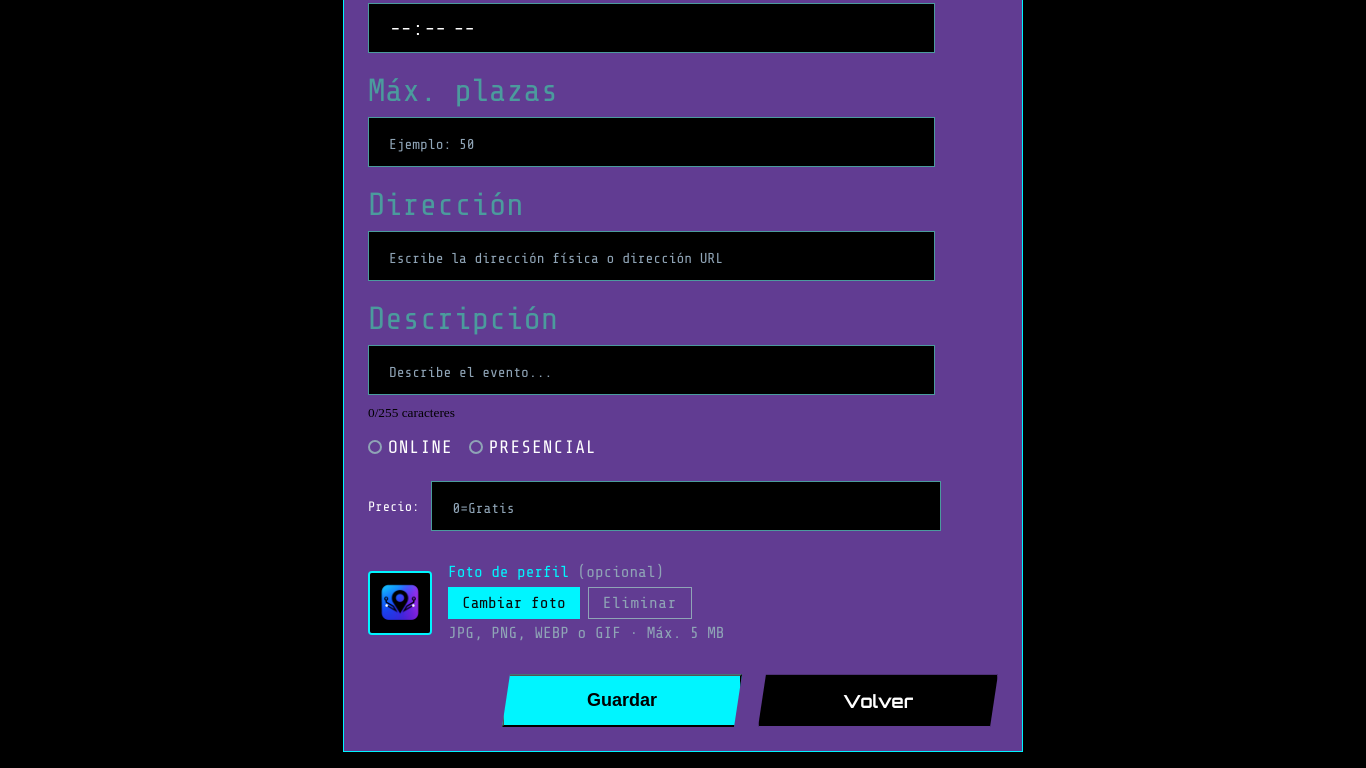
EventFormModal Component › muestra errores de validación front-end si los campos están vacíos
(page scrolled)
Click the button "Guardar".
click(622, 701)  # box [502,674,742,727]
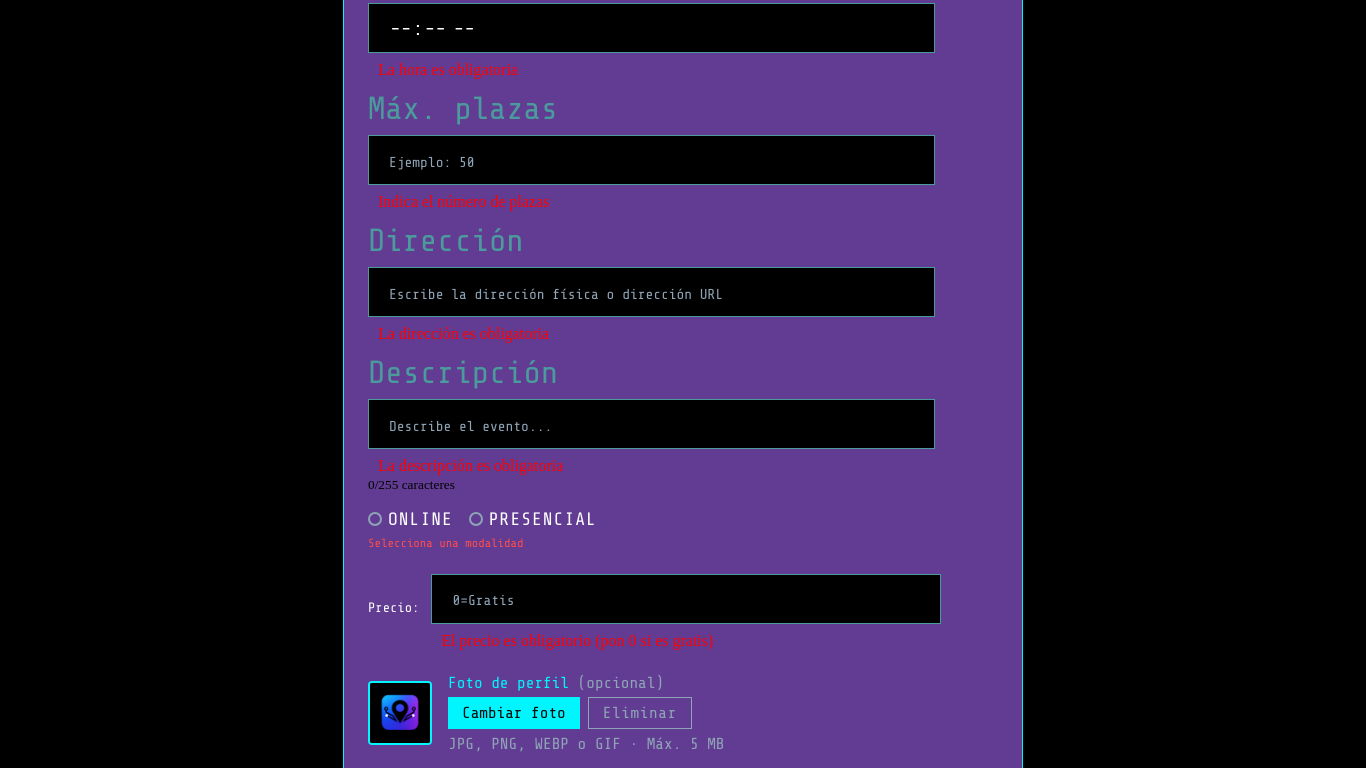
Expected: the text "Selecciona una modalidad" is shown, [368,536,524,550]
